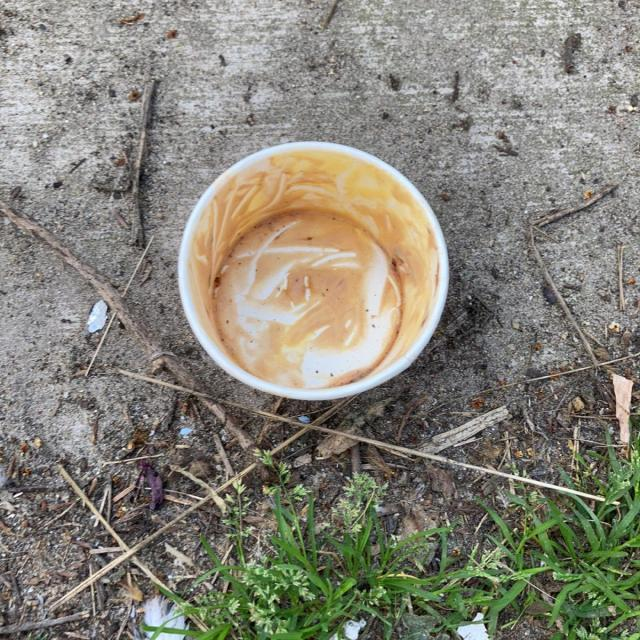Paper: (173, 136, 452, 404)
